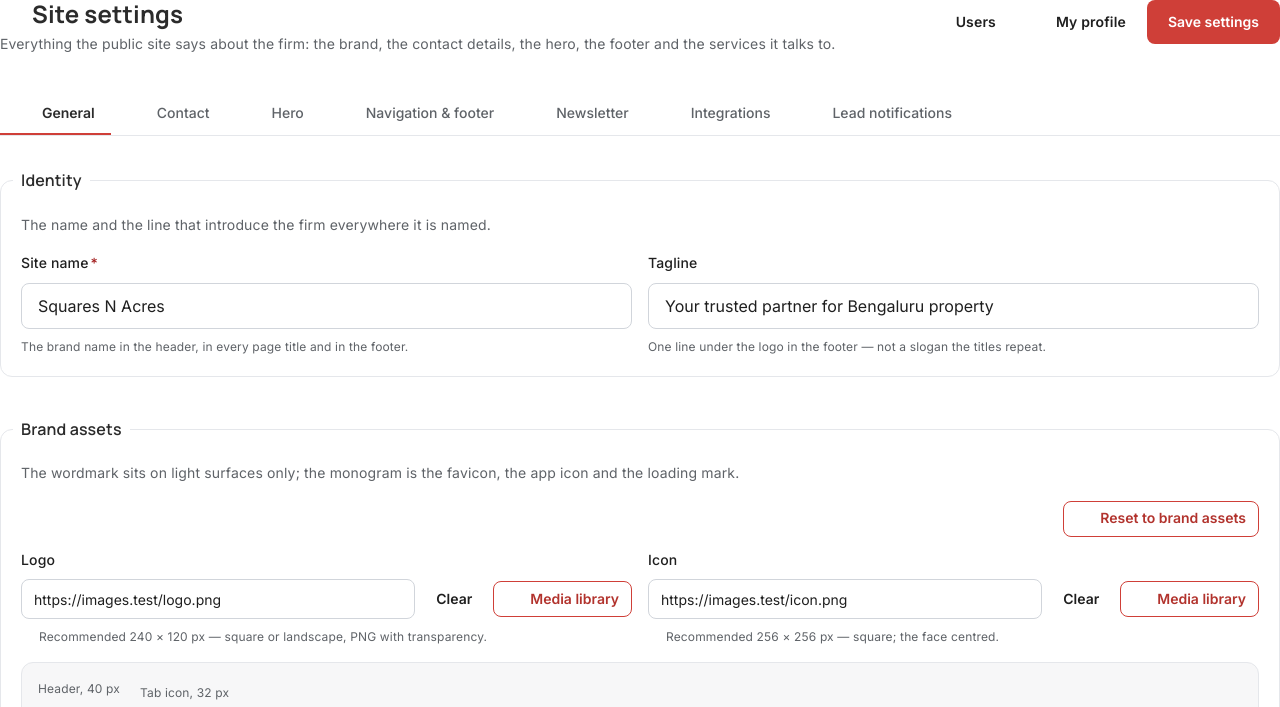
Test case: QA-64 › names an API message in the same words
Step 1. Replace the text in the field labelled "Tagline" with "Accepted here, refused there" → [954, 306], box [648, 283, 1259, 329]
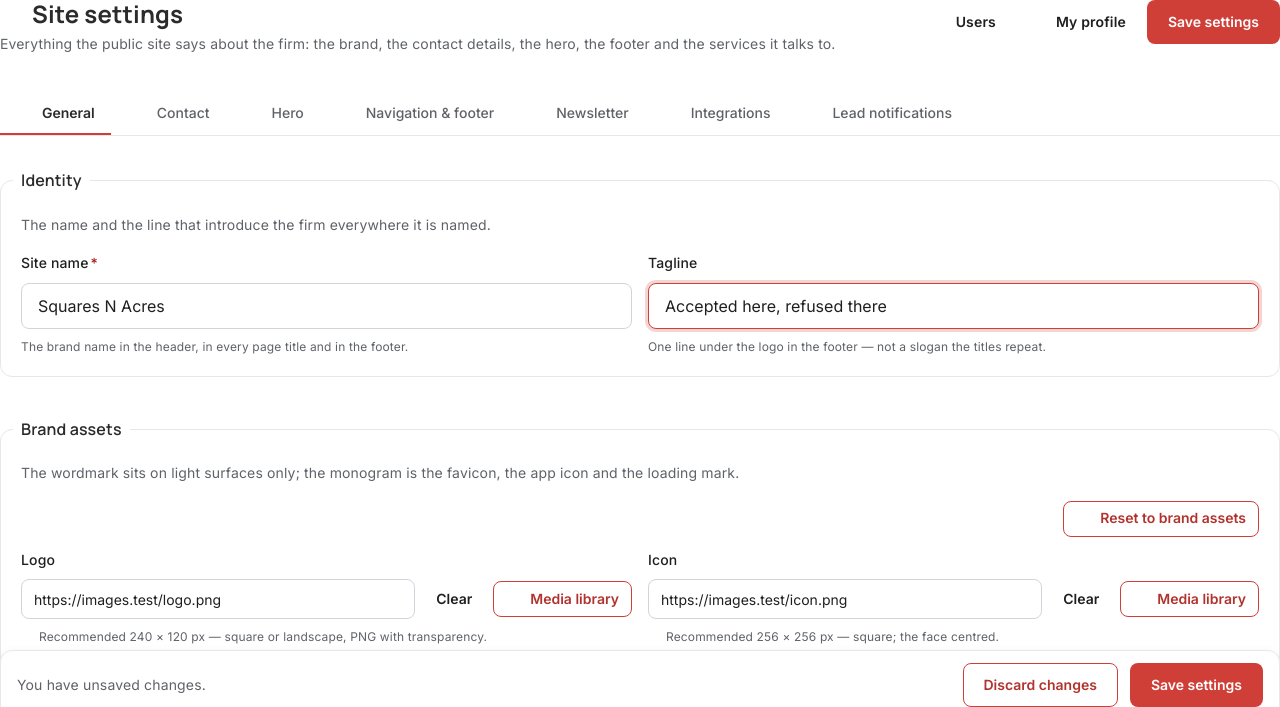
Step 2. Click the button "Save settings" next to "My profile" → [1213, 22], box [1147, 0, 1279, 44]
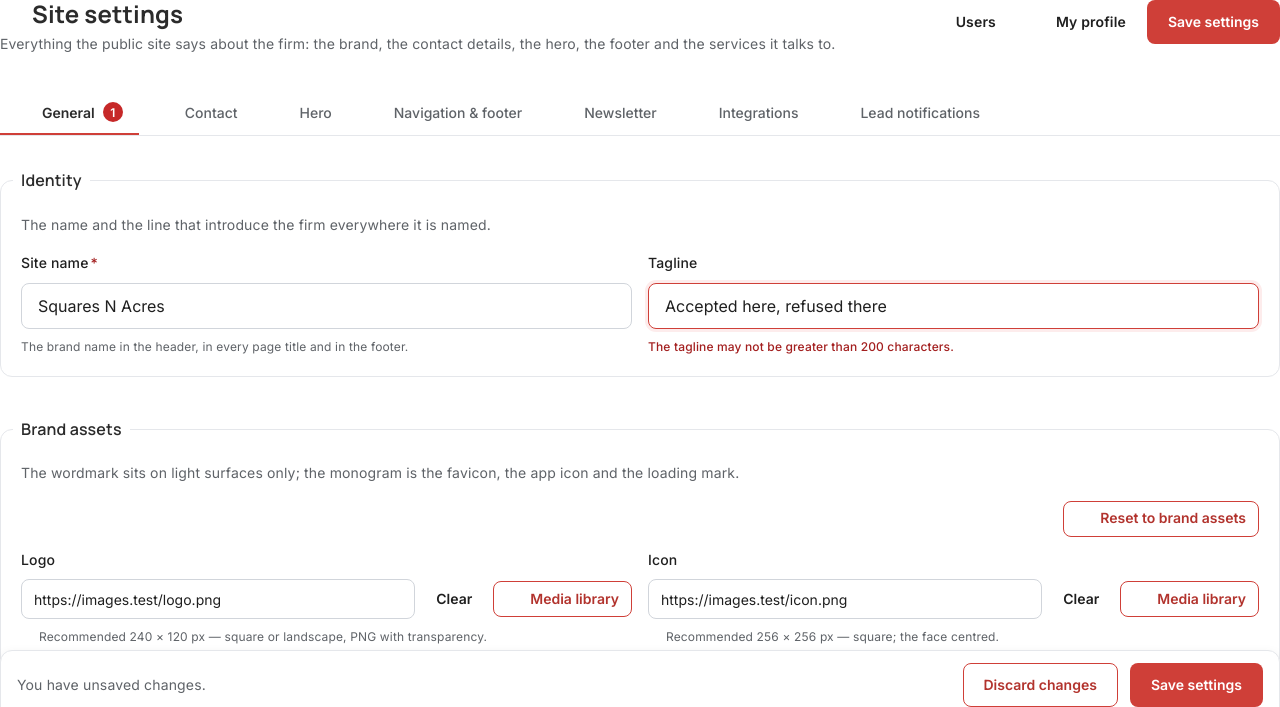
Check: the text "The tagline may not be greater than 200 characters." is shown, box [648, 339, 954, 354]
